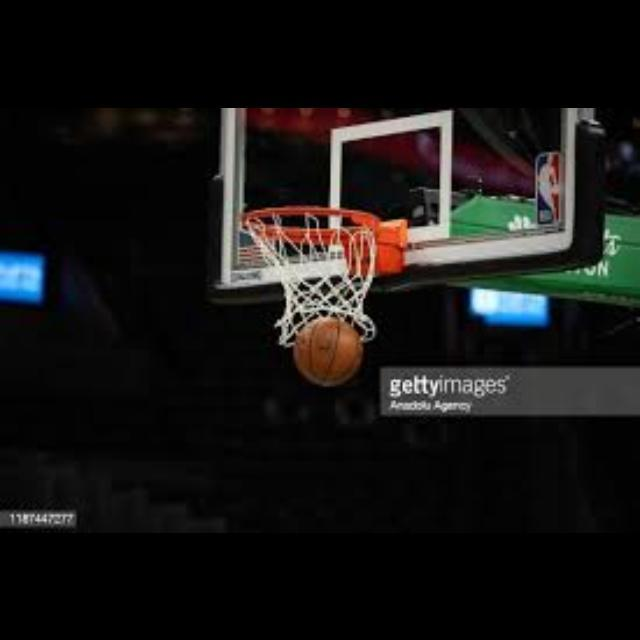basketball: (294, 317, 366, 387)
rim: (247, 205, 371, 328)
